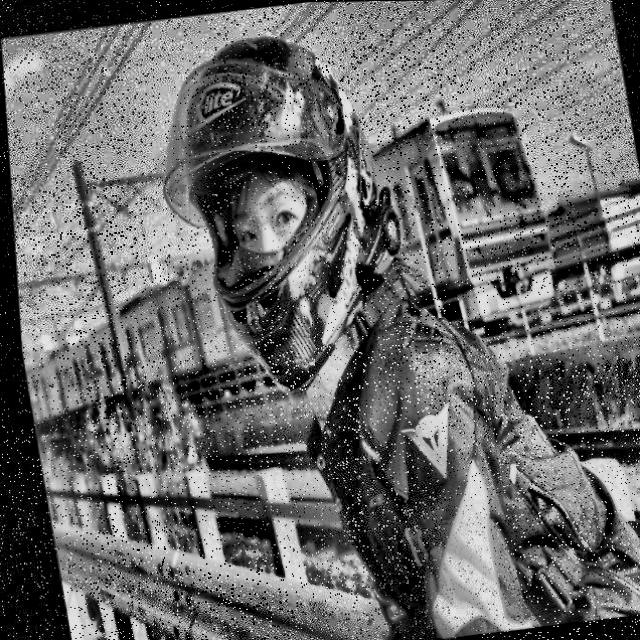Helmet: (130, 16, 414, 415)
